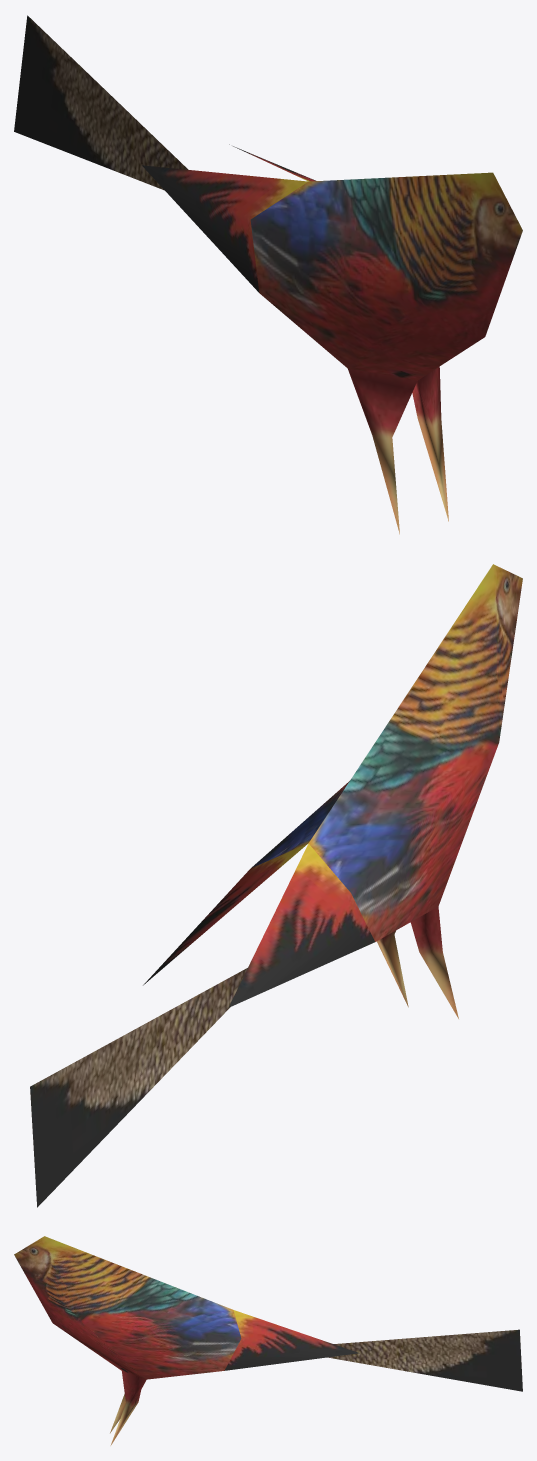
The model's file is birdtheed.far.glb.
The picture shows the model from 3 angles, top to bottom: view 1: azimuth 30°, elevation 25°; view 2: azimuth 150°, elevation 25°; view 3: azimuth 270°, elevation 25°; orthographic projection. The views are drawn at different scales.
Bounding box in the file's own units: 0.1024 × 0.339 × 0.7599.
Materials: 1 (1 with a texture image).
